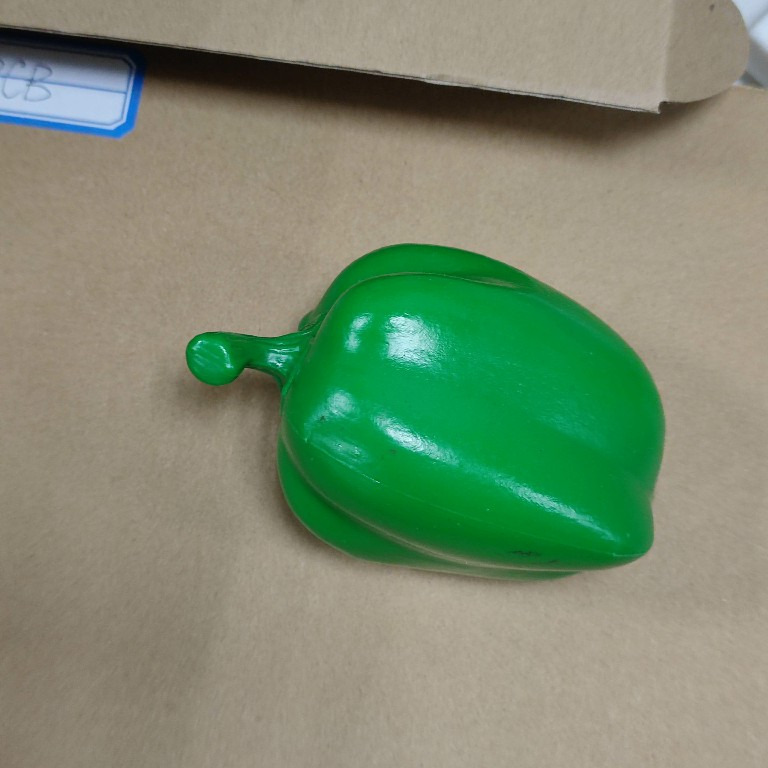fruit_pepper: (181, 236, 670, 587)
